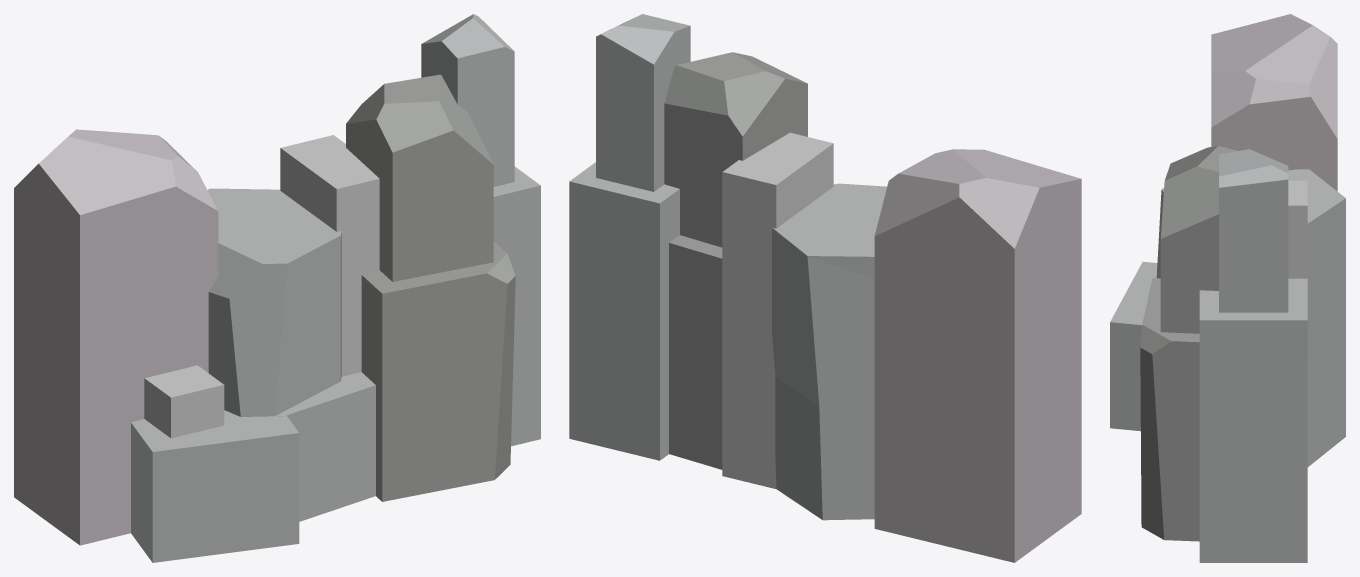
Rendered from Rock_Wall_05 2.fbx.
3 renders of one model, left to right at view 1: azimuth 30°, elevation 25°; view 2: azimuth 150°, elevation 25°; view 3: azimuth 270°, elevation 25°, orthographic. The views are drawn at different scales.
Parts seen in each view (by area): view 1: Rock_Wall_05; view 2: Rock_Wall_05; view 3: Rock_Wall_05.
Boxes of the visible parts, x1,y1,x2,y2 form: Rock_Wall_05: (14, 14, 540, 562); Rock_Wall_05: (569, 14, 1081, 562); Rock_Wall_05: (1110, 14, 1345, 562).
Bounding box in the file's own units: 684 × 577 × 321.
